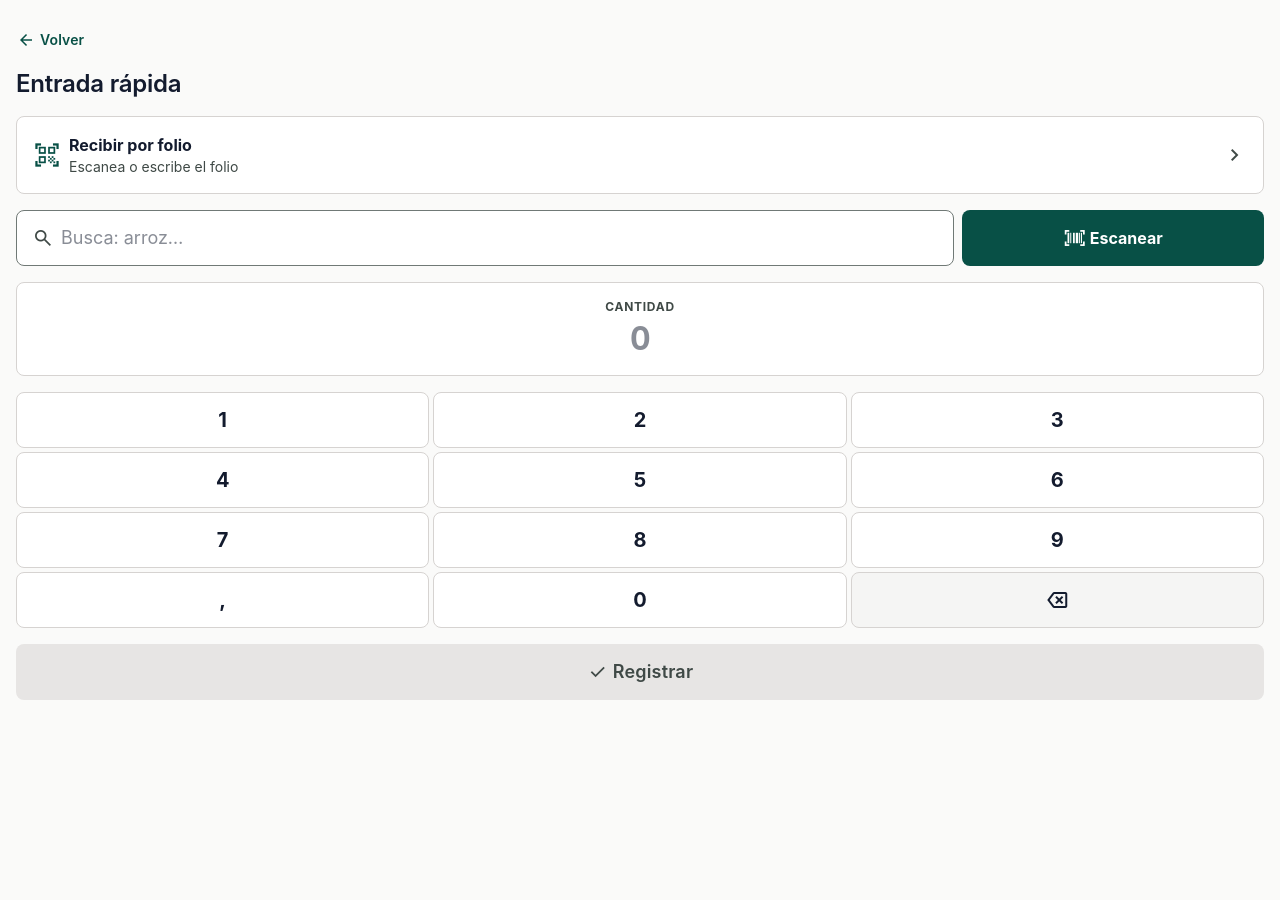
Test case: C4 sin conexión › si la red se cae justo al registrar, la entrada va a la cola
The width and height of the screenshot is (1280, 900).
Type "pañal" into the search field named "Categoría".
click(485, 238); type("pañal")  # box [16, 210, 954, 266]
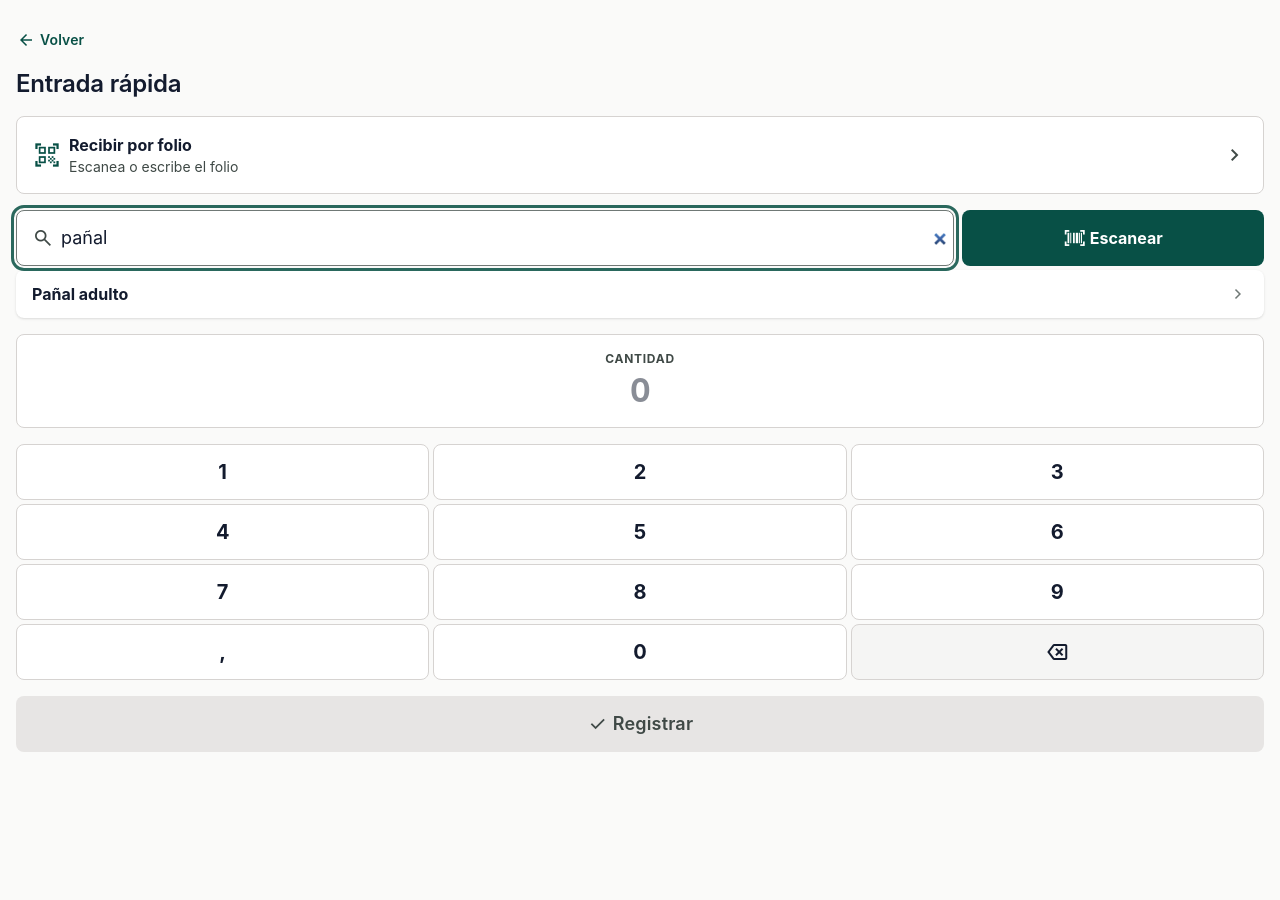
Click the button "Pañal adulto".
click(80, 294)  # box [16, 270, 1264, 318]
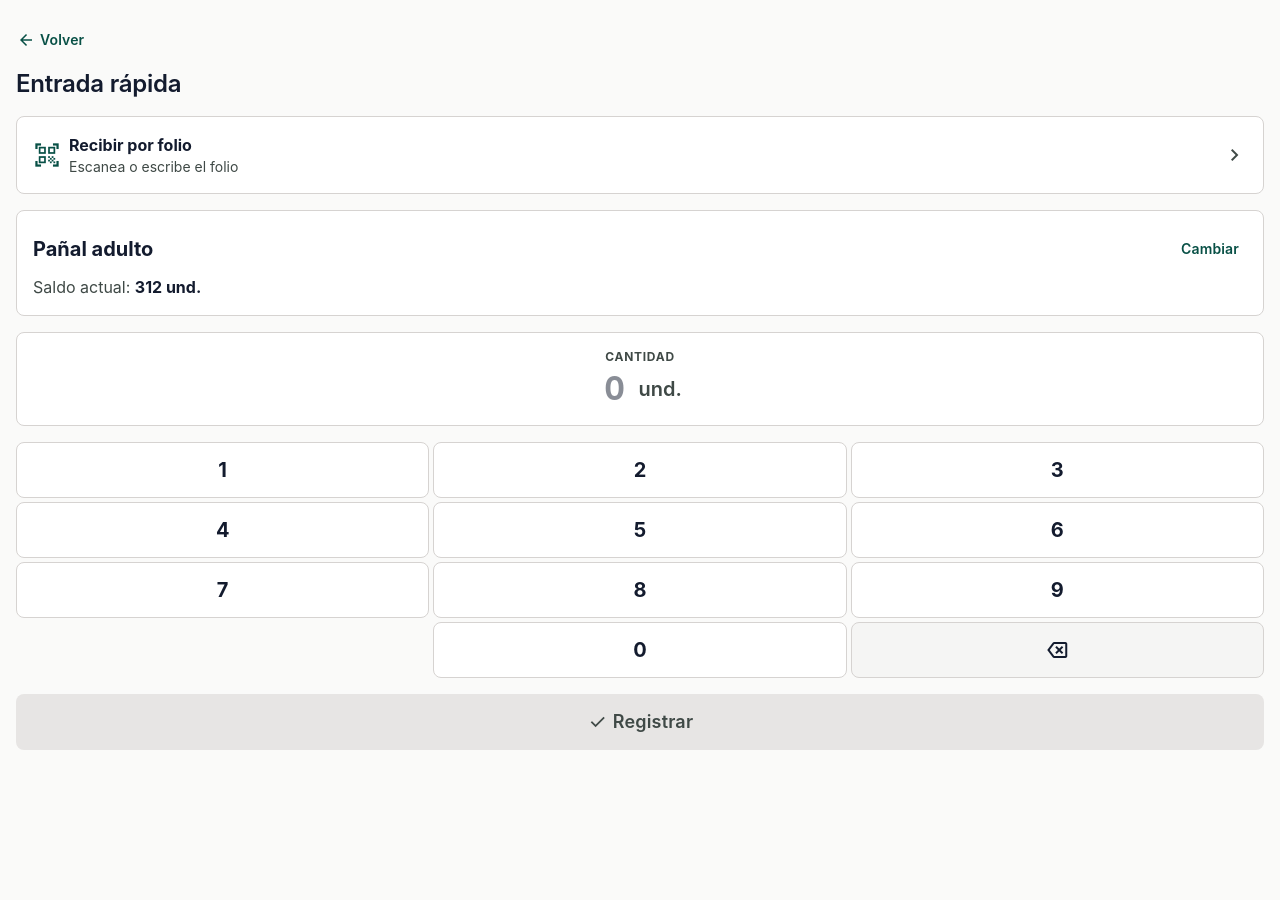
Click the button "5".
click(640, 530)  # box [433, 502, 847, 558]
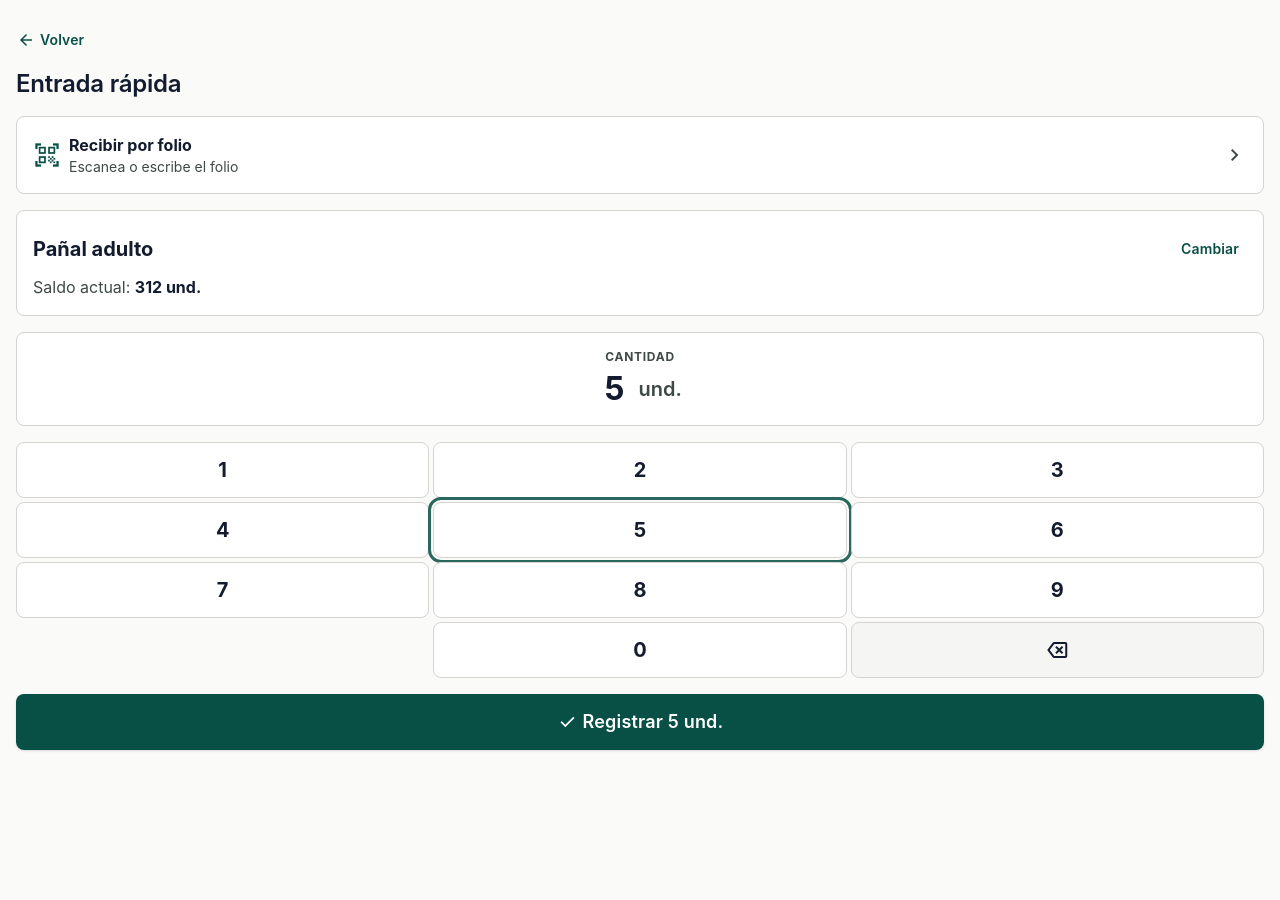
Click the button "Registrar 5 und.".
click(640, 722)  # box [16, 694, 1264, 750]
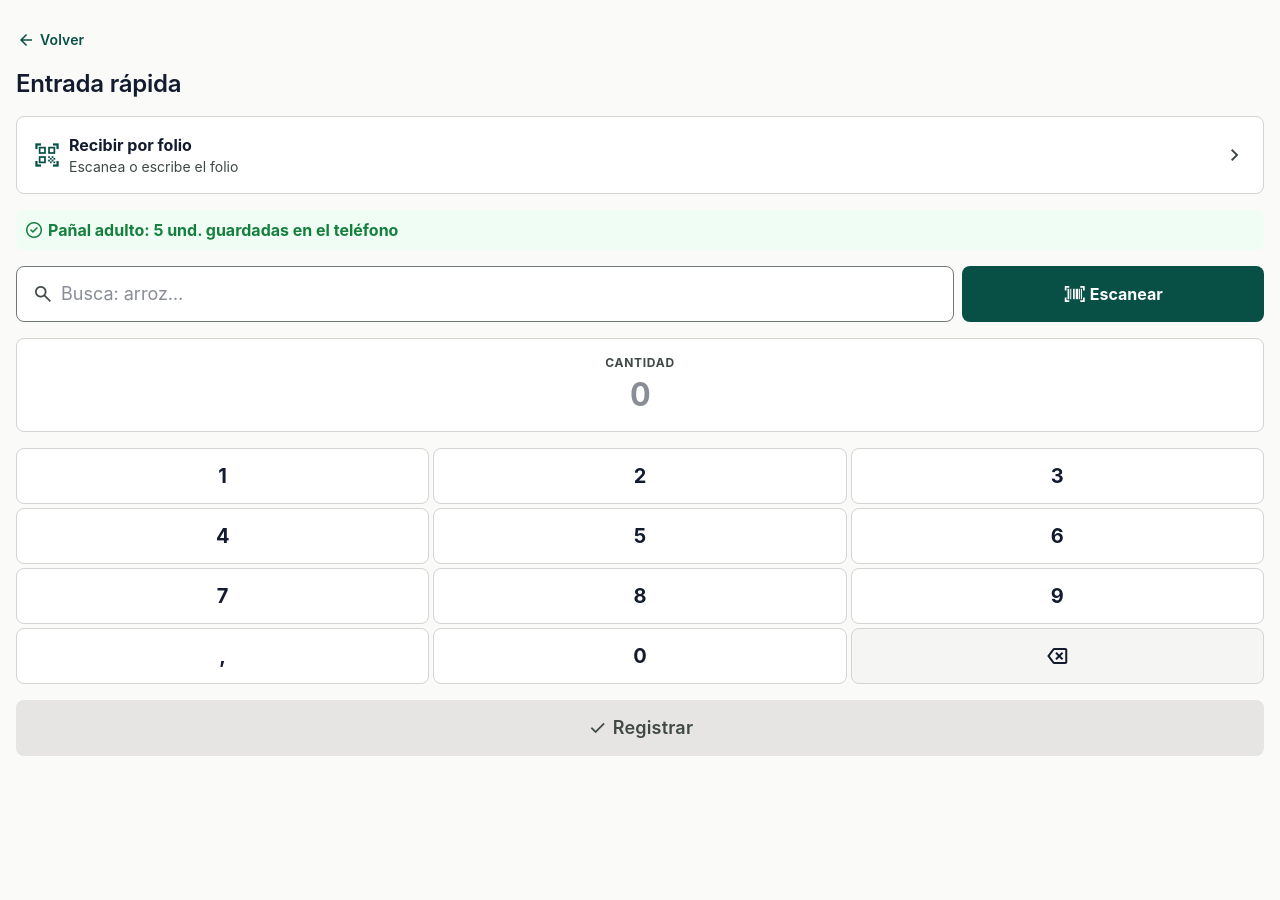
Check: the text "Pañal adulto: 5 und. guardadas en el teléfono" is shown, box [16, 210, 1264, 250]
